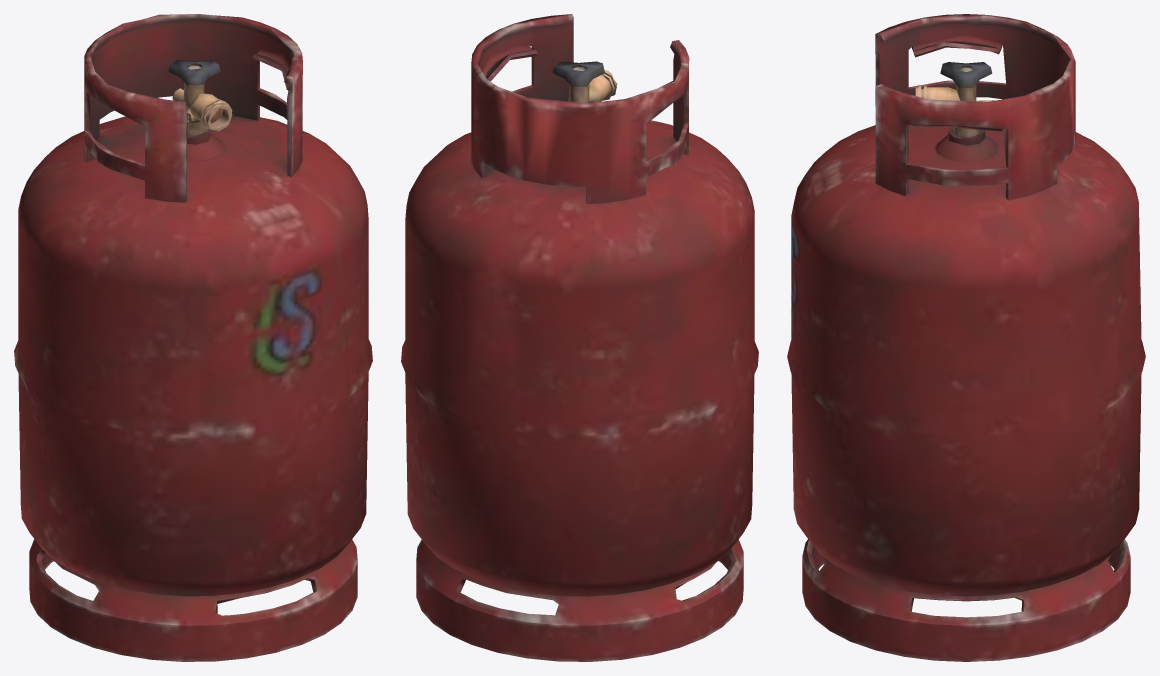
File: propane_tank.glb
3 renders of one model, left to right at view 1: azimuth 30°, elevation 25°; view 2: azimuth 150°, elevation 25°; view 3: azimuth 270°, elevation 25°, orthographic.
Parts seen in each view (by area): view 1: propane_tank; view 2: propane_tank; view 3: propane_tank.
Boxes of the visible parts, left/top/right/bottom form: propane_tank: left=14, top=14, right=372, bottom=661; propane_tank: left=401, top=14, right=758, bottom=661; propane_tank: left=787, top=14, right=1145, bottom=661.
Size of the model in its own units: 0.3374 by 0.5537 by 0.3374.
Materials: 1 (1 with a texture image).
